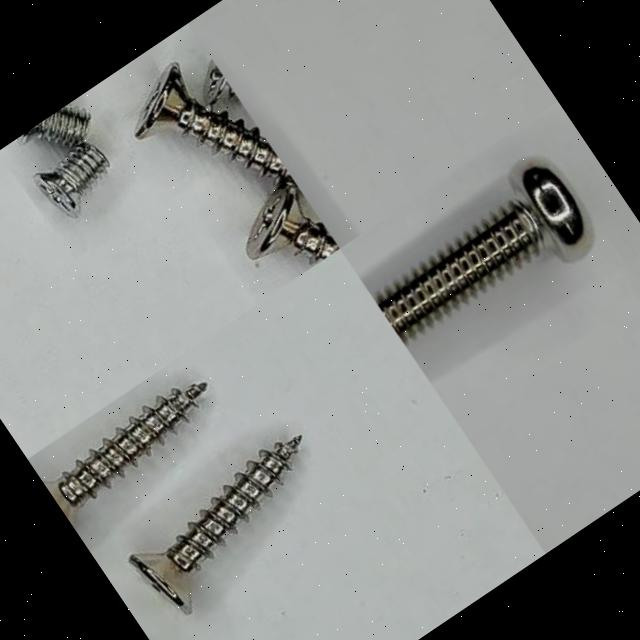Screw: (377, 166, 593, 344), (128, 435, 302, 615), (42, 383, 206, 526), (135, 63, 301, 191), (246, 184, 340, 262), (33, 142, 110, 218), (19, 106, 90, 146), (208, 60, 240, 104)
